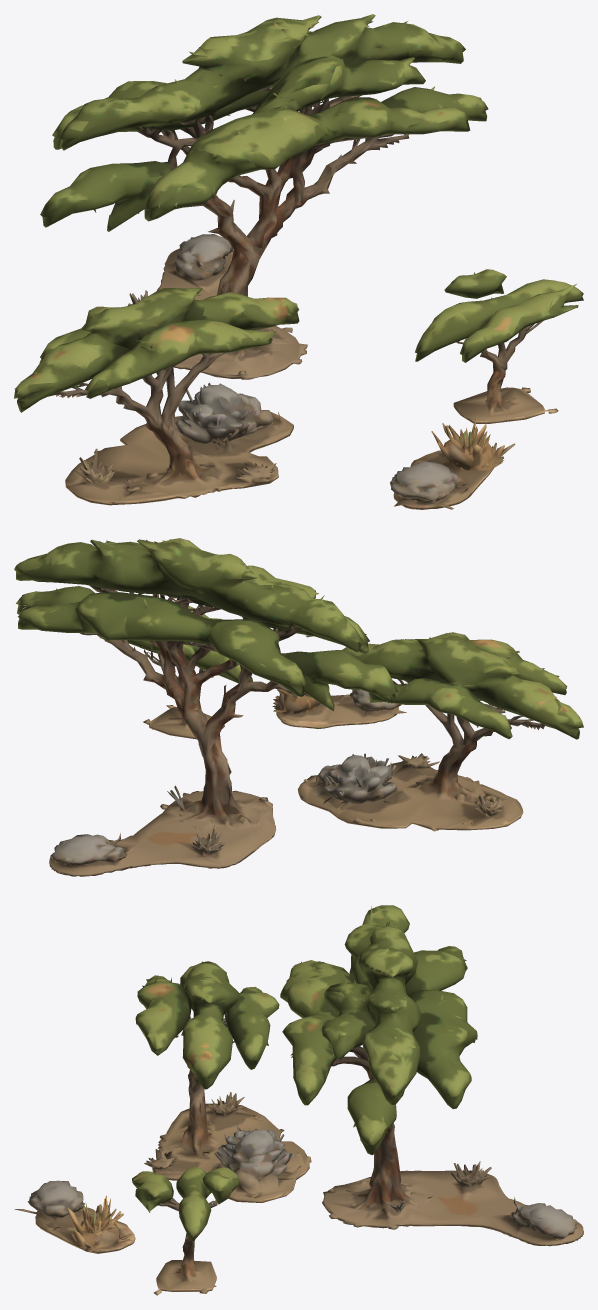
The model's file is AcaciaGrove.fbx.
3 renders of one model, top to bottom at view 1: azimuth 30°, elevation 25°; view 2: azimuth 150°, elevation 25°; view 3: azimuth 270°, elevation 25°, orthographic. The views are drawn at different scales.
Visible parts, largest first — view 1: AcaciaGrove; view 2: AcaciaGrove; view 3: AcaciaGrove.
Part boxes in pixels (x1,y1,x2,y2): AcaciaGrove: (14,14,583,509); AcaciaGrove: (14,538,583,876); AcaciaGrove: (14,905,583,1295).
Size of the model in its own units: 12.01 by 6.63 by 11.99.
1 material, 1 textured.
